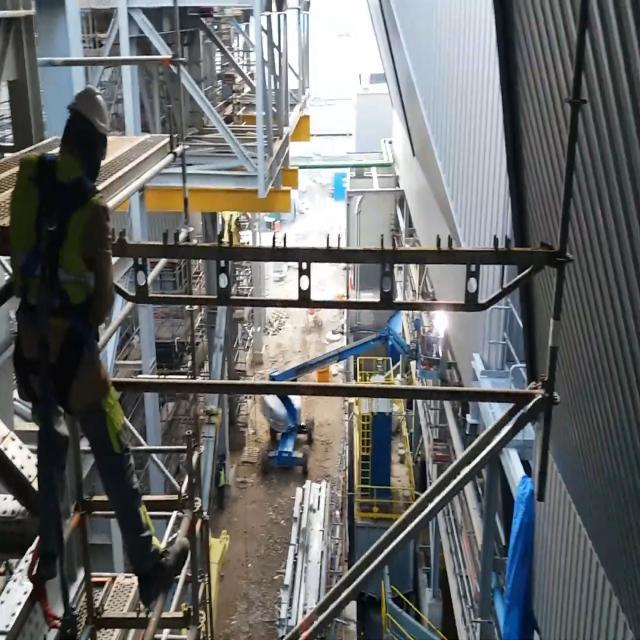belt: (8, 155, 110, 431)
